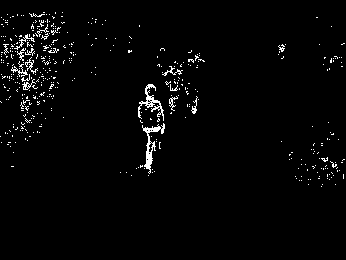person: (138, 83, 163, 175)
